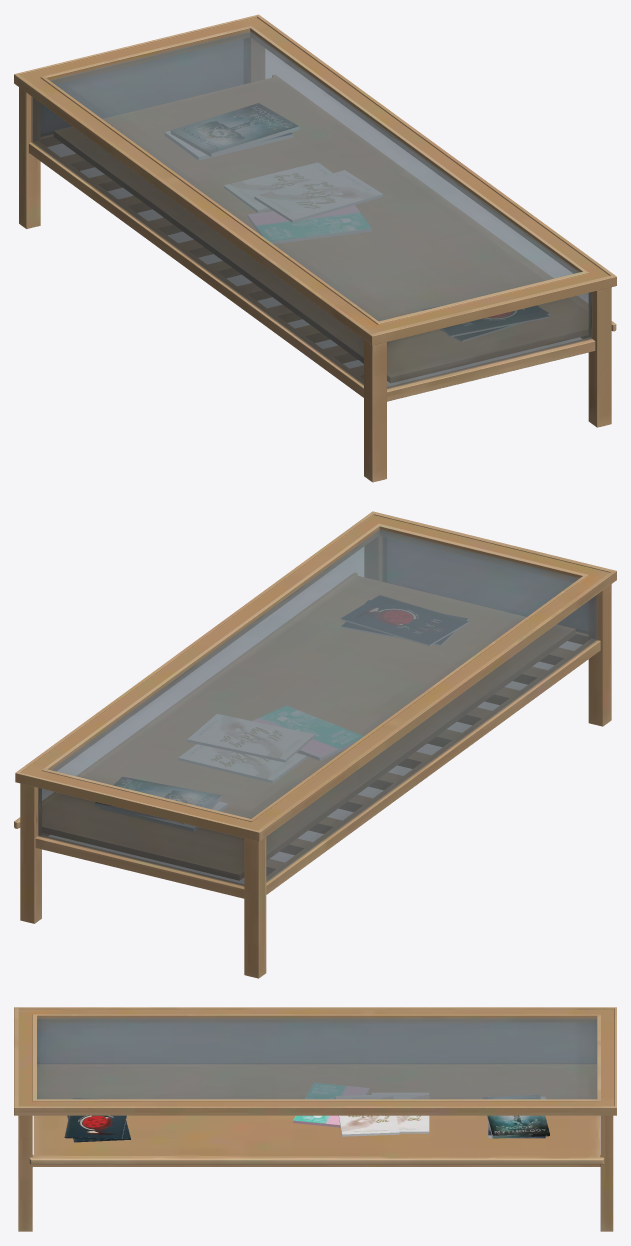
The model's file is origen-glass-table-v1.glb.
The picture shows the model from 3 angles, top to bottom: view 1: azimuth 30°, elevation 25°; view 2: azimuth 150°, elevation 25°; view 3: azimuth 270°, elevation 25°; orthographic projection. The views are drawn at different scales.
Parts seen in each view (by area): view 1: glass_table, book_2, book_8, book_5, book_6, book_7; view 2: glass_table, book_8, book_7, book_5, book_6, book_2; view 3: glass_table, book_2, book_8, book_7, book_5, book_6.
Part boxes in pixels (bbox=[...]): glass_table: bbox=[14, 14, 616, 482]; book_2: bbox=[171, 103, 298, 156]; book_8: bbox=[254, 170, 382, 222]; book_5: bbox=[247, 205, 371, 243]; book_6: bbox=[224, 163, 331, 212]; book_7: bbox=[422, 306, 549, 336]; glass_table: bbox=[14, 511, 616, 978]; book_8: bbox=[187, 714, 314, 761]; book_7: bbox=[341, 595, 468, 645]; book_5: bbox=[253, 706, 363, 760]; book_6: bbox=[178, 744, 306, 782]; book_2: bbox=[95, 777, 221, 819]; glass_table: bbox=[14, 1007, 616, 1231]; book_2: bbox=[483, 1095, 549, 1138]; book_8: bbox=[336, 1094, 399, 1136]; book_7: bbox=[64, 1098, 126, 1140]; book_5: bbox=[293, 1083, 369, 1127]; book_6: bbox=[372, 1093, 429, 1133].
Bounding box in the file's own units: 3.34 × 1.87 × 8.15.
7 materials, 7 textured.
